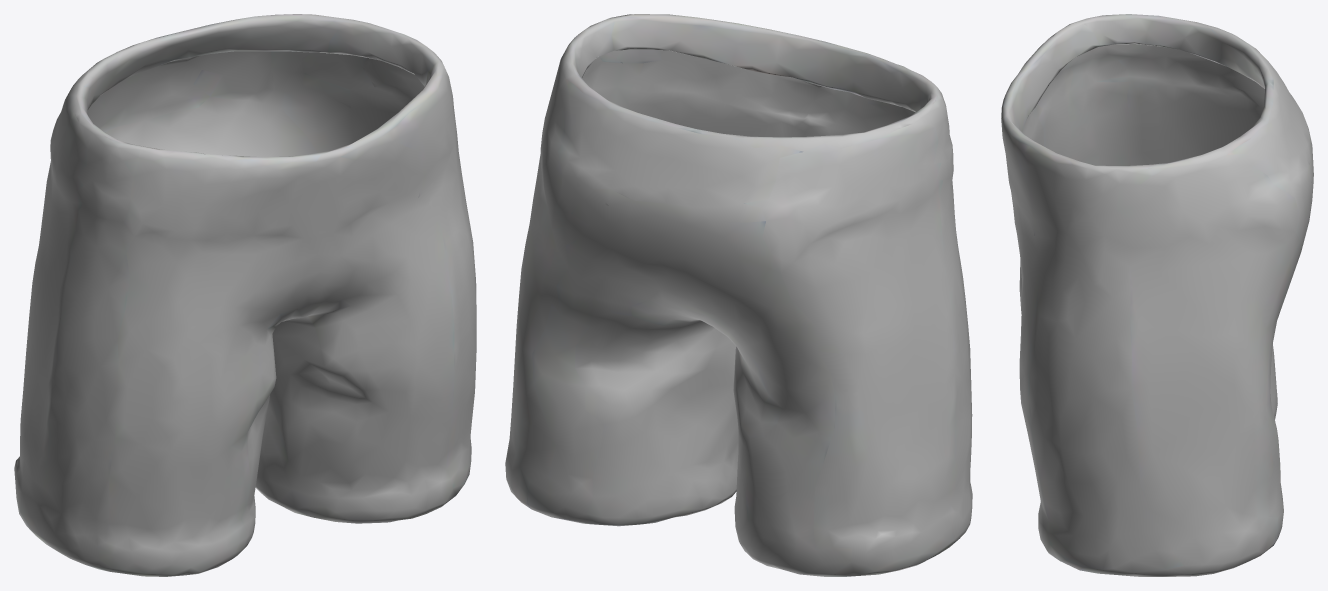
The model's file is Chibi Shorts.glb.
3 views of the same model, side by side, from view 1: azimuth 30°, elevation 25°; view 2: azimuth 150°, elevation 25°; view 3: azimuth 270°, elevation 25° (orthographic). The views are drawn at different scales.
Visible parts, largest first — view 1: short; view 2: short; view 3: short.
Part boxes in pixels (x1=…): short: x1=14, y1=14, x2=476, y2=576; short: x1=505, y1=14, x2=972, y2=576; short: x1=1001, y1=14, x2=1313, y2=576.
Bounding box in the file's own units: 0.2463 × 0.2442 × 0.171.
1 material, 1 textured.
